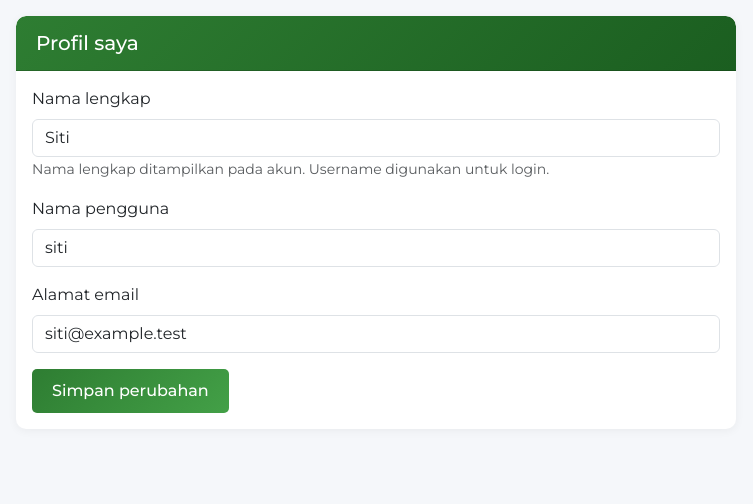
editable full names › saves a member name and updates the session display without changing username
Step 1. Replace the text in the field labelled "Nama lengkap" with "Siti Nur Aini" → (376, 138), box [32,119,720,157]
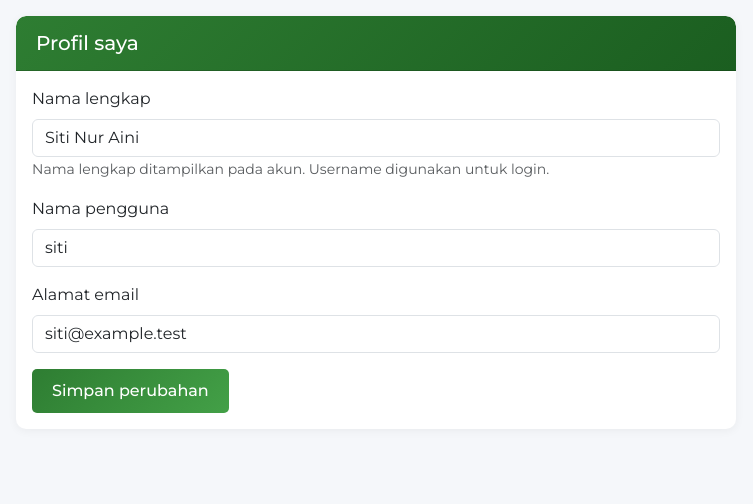
Step 2. Click the button "Simpan perubahan" → (130, 391), box [32,369,229,413]
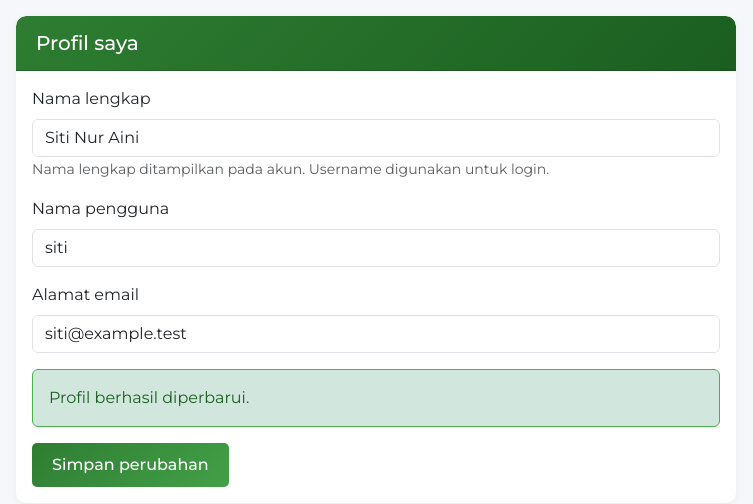
Expected: the field labelled "Nama pengguna" holds "siti", [32,229,720,267]
Expected: the message "Profil berhasil diperbarui." is shown, [32,369,720,427]
